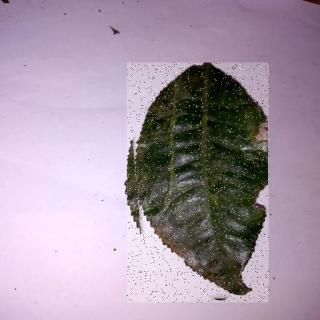Anthracnose: (129, 64, 271, 304)
